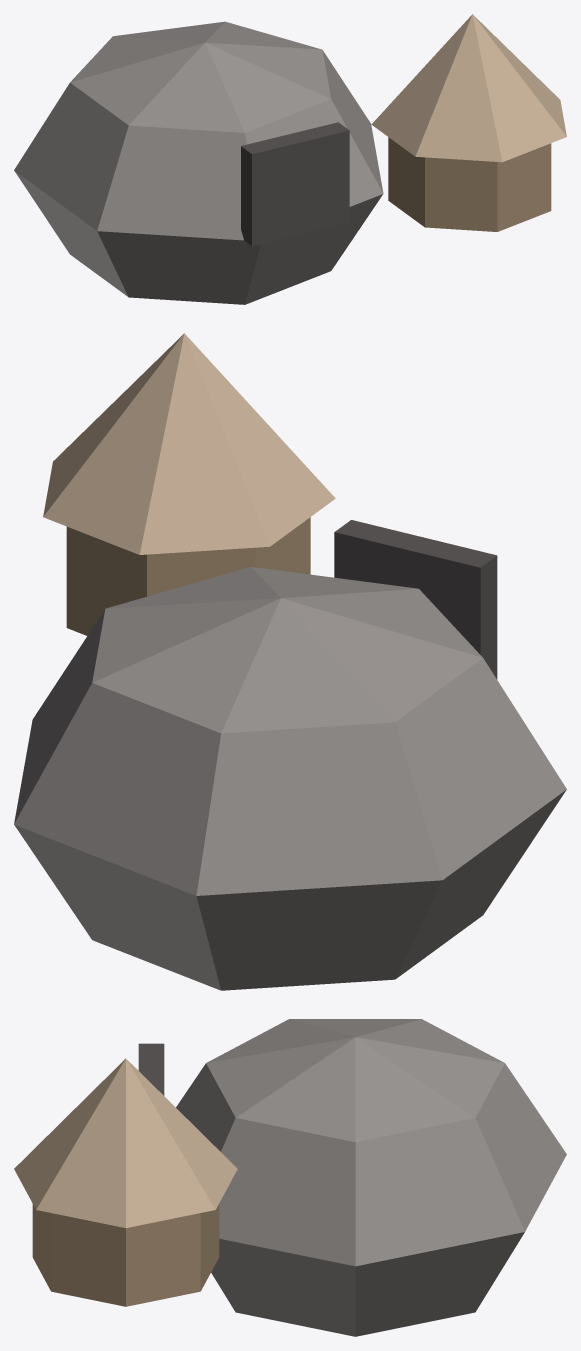
The picture shows the model from 3 angles, top to bottom: view 1: azimuth 30°, elevation 25°; view 2: azimuth 150°, elevation 25°; view 3: azimuth 270°, elevation 25°; orthographic projection. The views are drawn at different scales.
Parts seen in each view (by area): view 1: body; view 2: body; view 3: body.
Part boxes in pixels (<box>): body: <box>14,14,566,304</box>; body: <box>14,333,566,990</box>; body: <box>14,1019,566,1336</box>.
Size of the model in its own units: 8.26 by 5.98 by 8.67.
